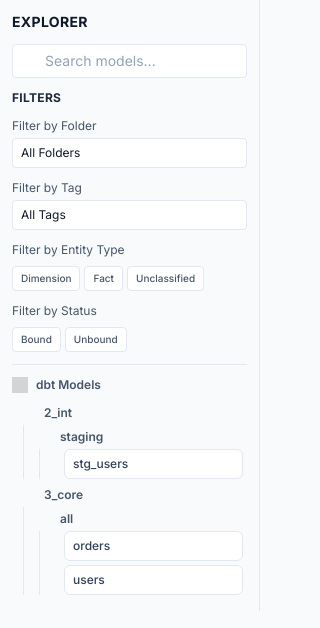
it: Sidebar — filtering through the UI › shows only models in the folder picked from the folder dropdown
Expected: the text "users" is shown, [73, 572, 105, 587]
Expected: the text "orders" is shown, [73, 538, 110, 553]
Select "2_int/staging" in the dropdown labelled "Filter by Folder". click: (130, 153)
box: [12, 138, 247, 168]
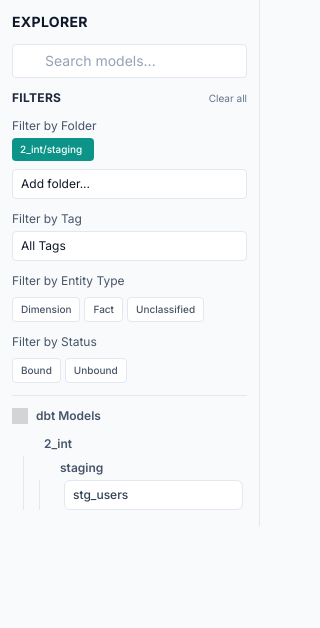
Expected: the text "stg_users" is shown, [73, 487, 128, 502]
Expected: the text "orders" is gone
